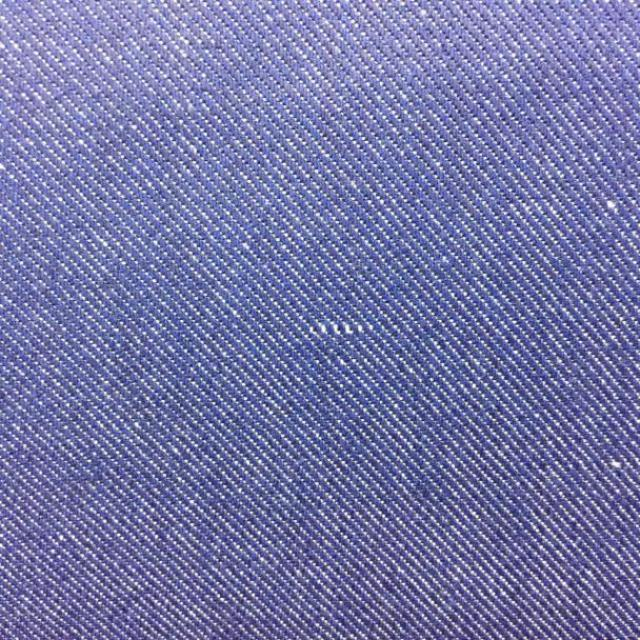Knot: (309, 321, 375, 338)
